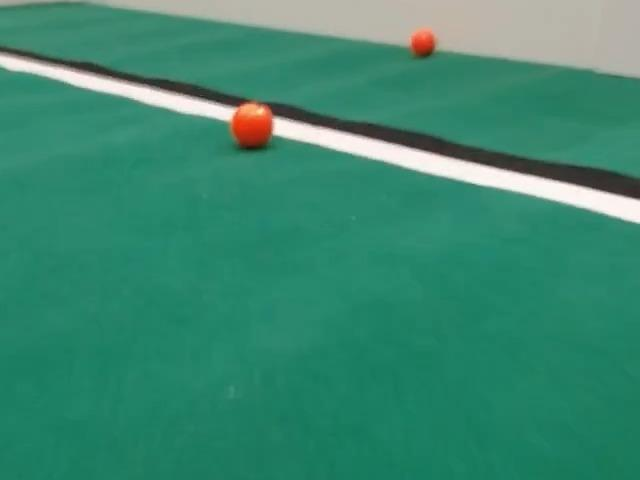Ball: (230, 102, 273, 148), (410, 28, 435, 57)
